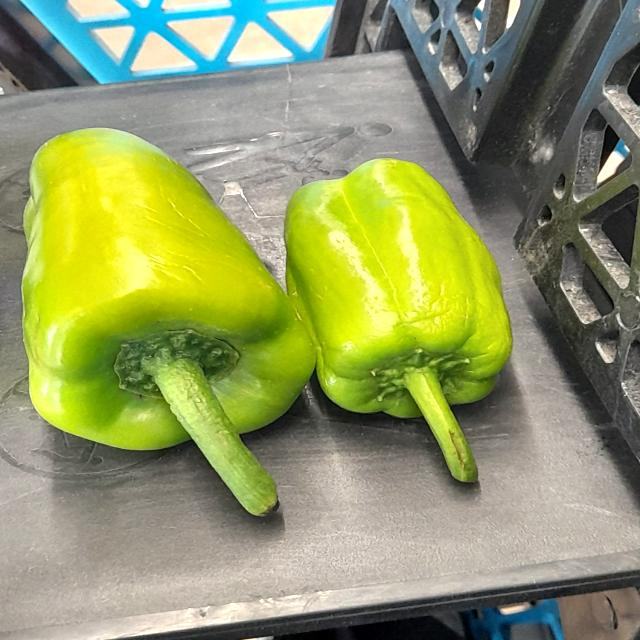bell pepper: (14, 125, 320, 524), (276, 152, 523, 490)
